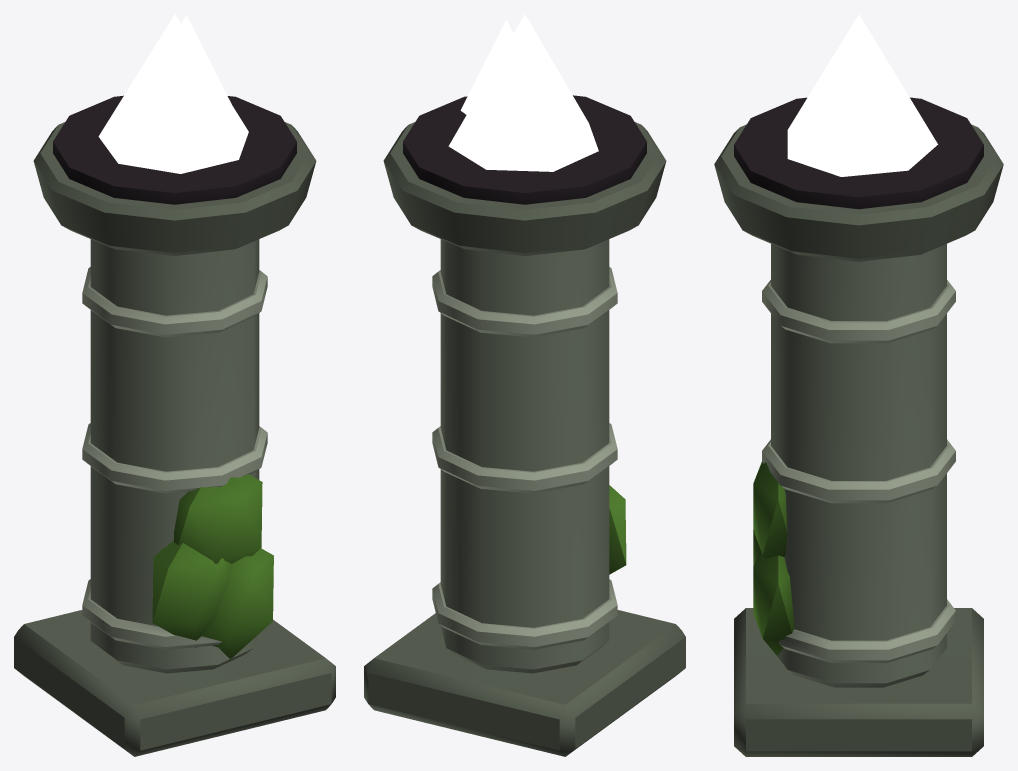
The model's file is mt_pillar_1.glb.
3 views of the same model, side by side, from view 1: azimuth 30°, elevation 25°; view 2: azimuth 150°, elevation 25°; view 3: azimuth 270°, elevation 25° (orthographic). The views are drawn at different scales.
Visible parts, largest first — view 1: body, pulse_flame_glow; view 2: body, pulse_flame_glow; view 3: body, pulse_flame_glow.
Boxes of the visible parts, bbox=[...] form: body: bbox=[14, 95, 335, 756]; pulse_flame_glow: bbox=[98, 14, 248, 173]; body: bbox=[364, 95, 685, 756]; pulse_flame_glow: bbox=[448, 14, 598, 171]; body: bbox=[714, 97, 1003, 756]; pulse_flame_glow: bbox=[787, 14, 937, 176].
Size of the model in its own units: 1.97 by 5.22 by 1.97.
